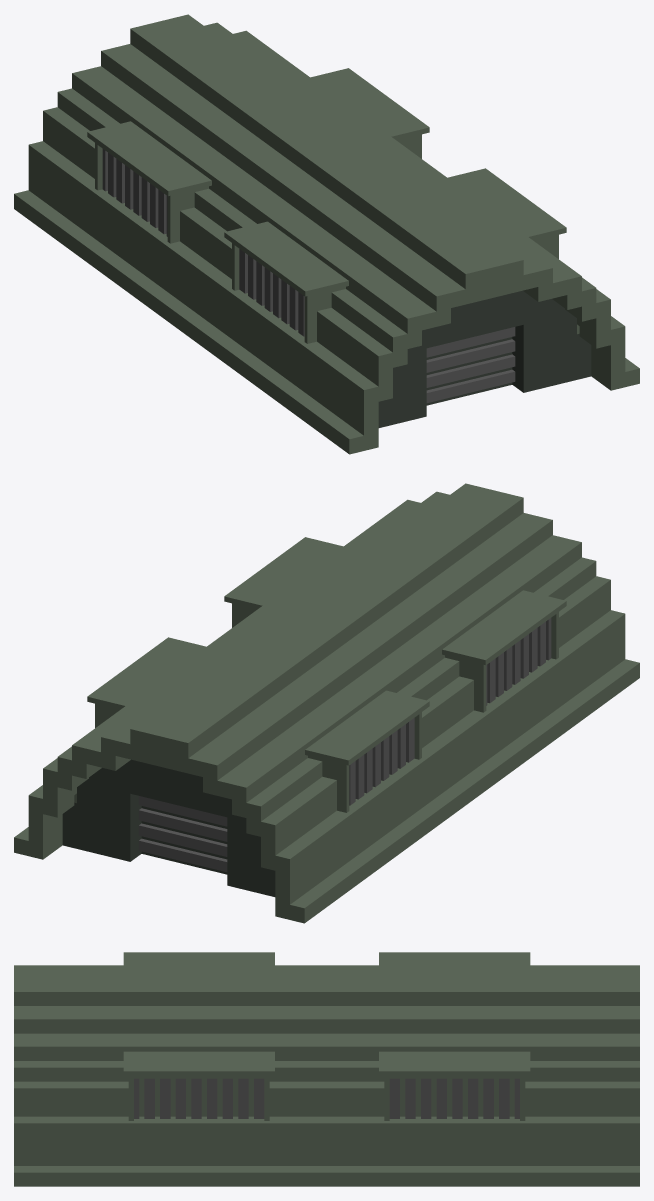
File: Army Hangar.obj
3 renders of one model, top to bottom at view 1: azimuth 30°, elevation 25°; view 2: azimuth 150°, elevation 25°; view 3: azimuth 270°, elevation 25°, orthographic. The views are drawn at different scales.
Parts seen in each view (by area): view 1: Army Hangar; view 2: Army Hangar; view 3: Army Hangar.
Boxes of the visible parts, x1=… form: Army Hangar: x1=14, y1=14, x2=639, y2=454; Army Hangar: x1=14, y1=483, x2=639, y2=923; Army Hangar: x1=14, y1=952, x2=639, y2=1186.
Bounding box in the file's own units: 60 × 30 × 120.
Materials: 1 (1 with a texture image).
